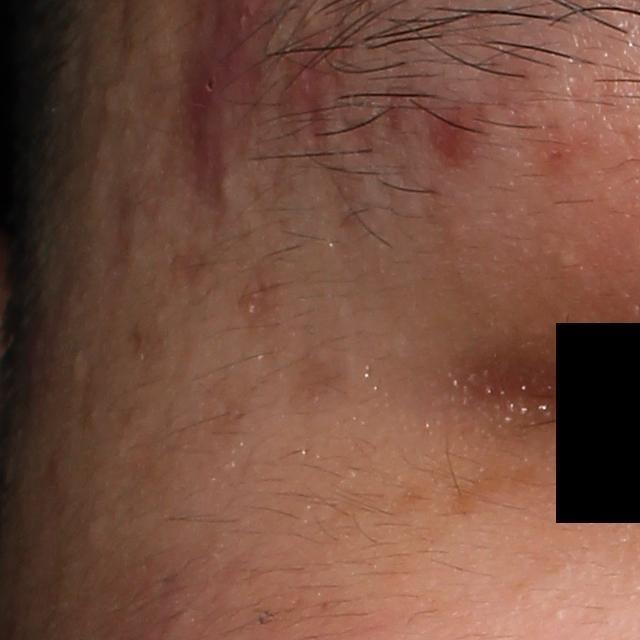comedo: (210, 174, 235, 204)
melasma: (443, 461, 537, 520), (384, 477, 438, 520)
